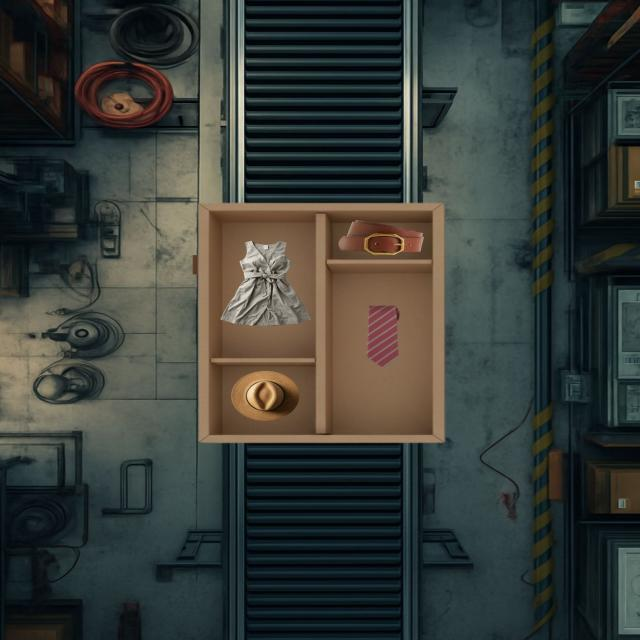belt: (339, 220, 423, 255)
dress: (220, 241, 310, 326)
hat: (232, 371, 299, 420)
tie: (368, 306, 399, 367)
